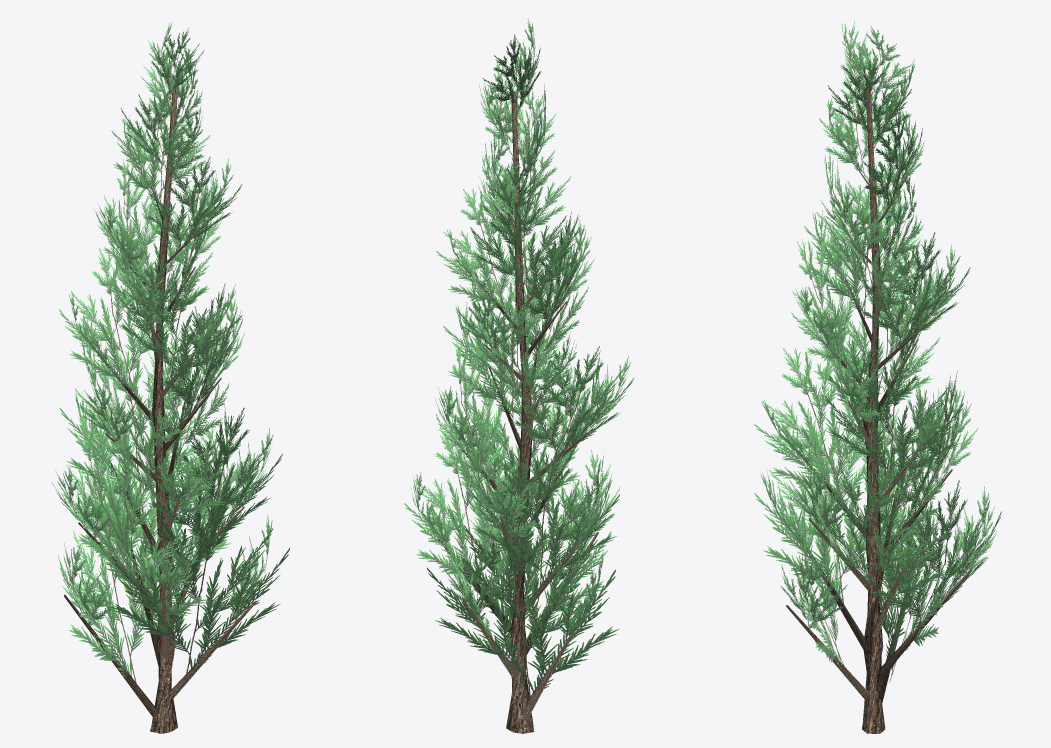
The model's file is juniper.dae.
3 renders of one model, left to right at view 1: azimuth 30°, elevation 25°; view 2: azimuth 150°, elevation 25°; view 3: azimuth 270°, elevation 25°, orthographic. The views are drawn at different scales.
Visible parts, largest first — view 1: Tree_1, Tree_0; view 2: Tree_1, Tree_0; view 3: Tree_1, Tree_0.
Boxes of the visible parts, x1,y1,x2,y2 form: Tree_1: (51,21,289,683); Tree_0: (64,83,256,733); Tree_1: (404,18,633,702); Tree_0: (431,91,598,733); Tree_1: (754,21,1001,682); Tree_0: (786,86,971,733).
Bounding box in the file's own units: 91.96 × 88.81 × 215.
2 materials, 2 textured.
